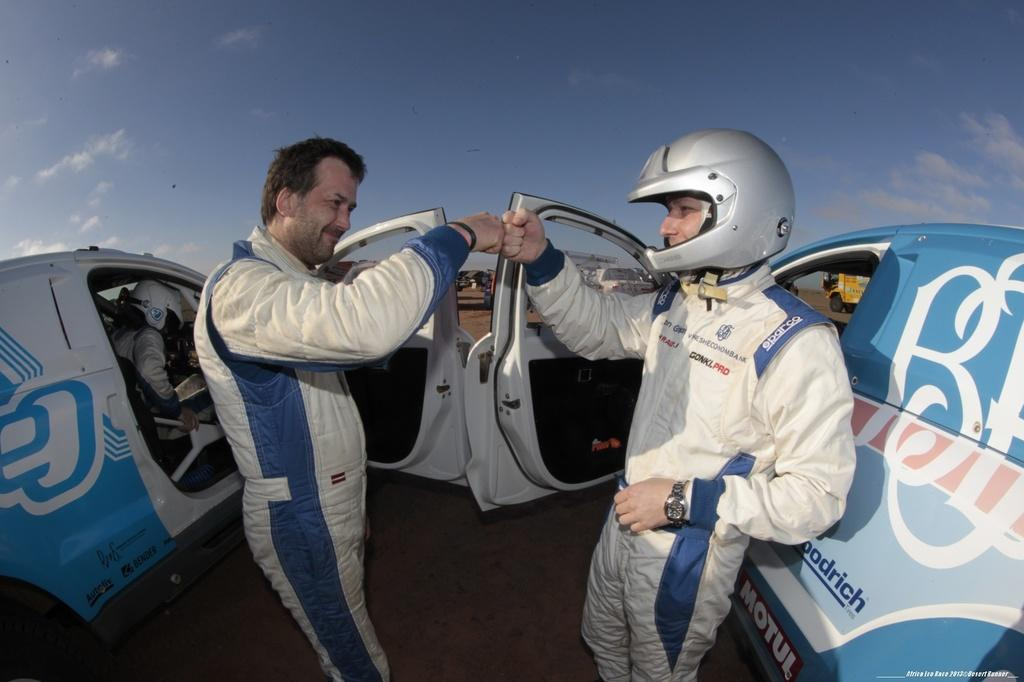helmet: (627, 128, 796, 273), (127, 279, 184, 337)
nohelmet: (260, 135, 368, 271)
